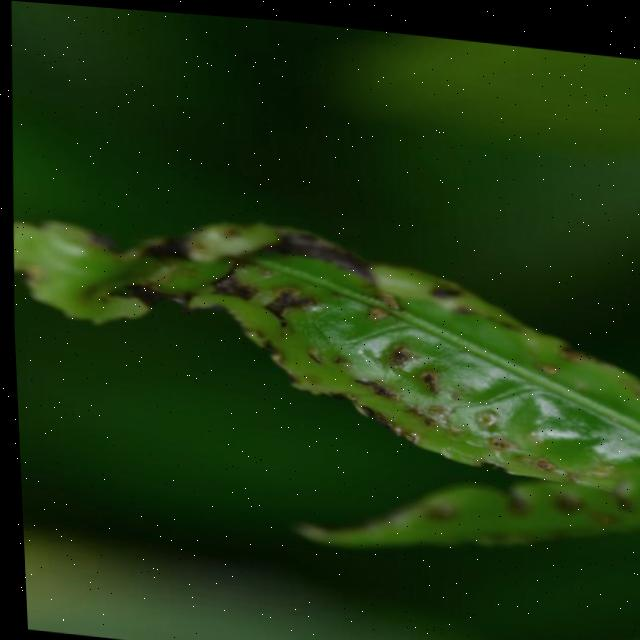Tea red scab: (66, 201, 592, 483)
